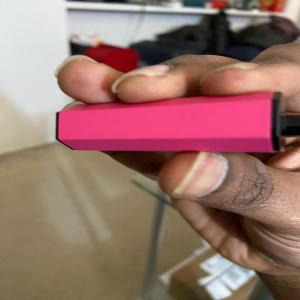Blume-E-Ciggirate: (46, 90, 298, 152)
